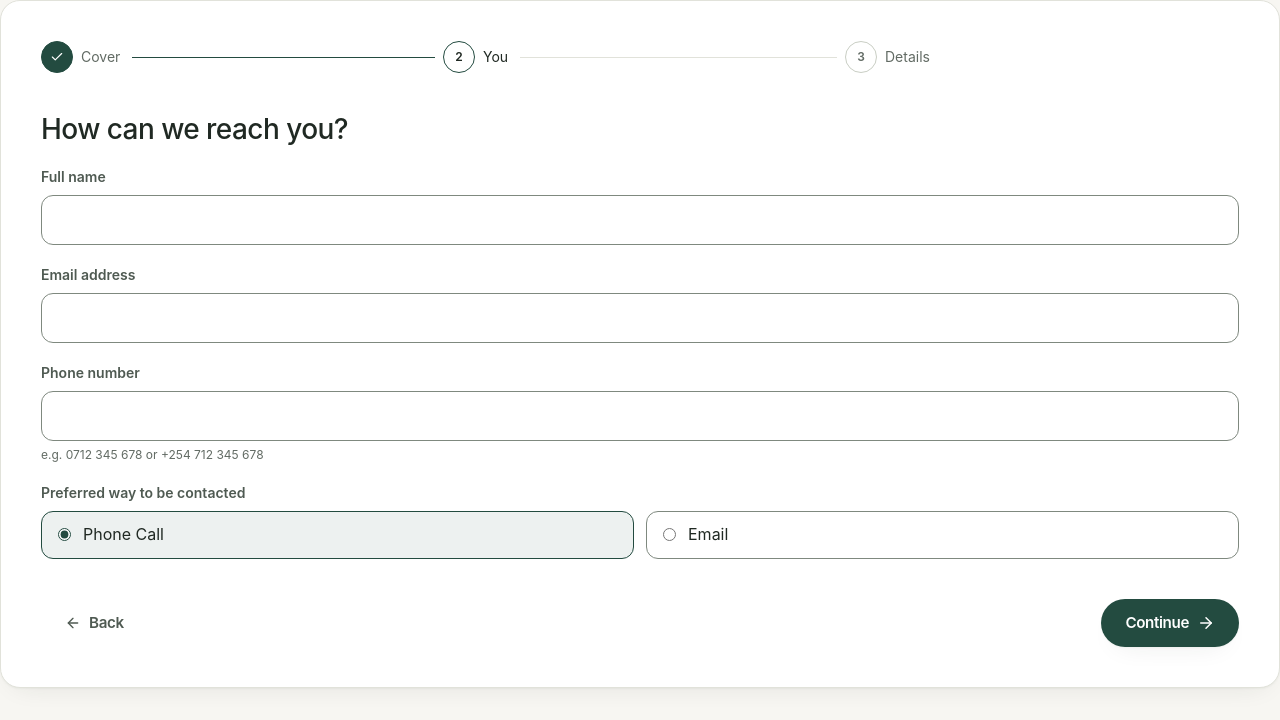
Test case: QuoteForm journey › shows inline errors for invalid contact details and a Kenyan phone hint
This screenshot has width=1280, height=720.
Step 1. Type "123" into the field labelled "Phone number" → (640, 416), box [41,391,1239,441]
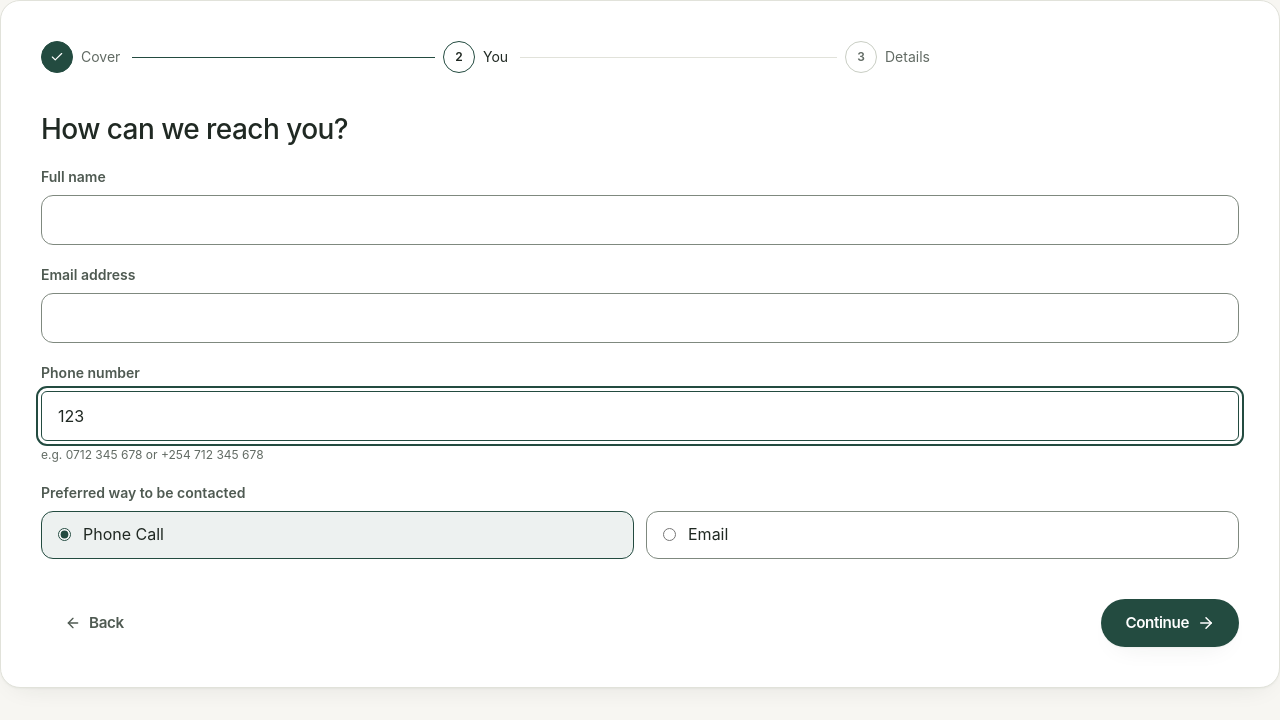
Step 2. Click the button "Continue" → (1170, 623), box [1101,599,1239,647]
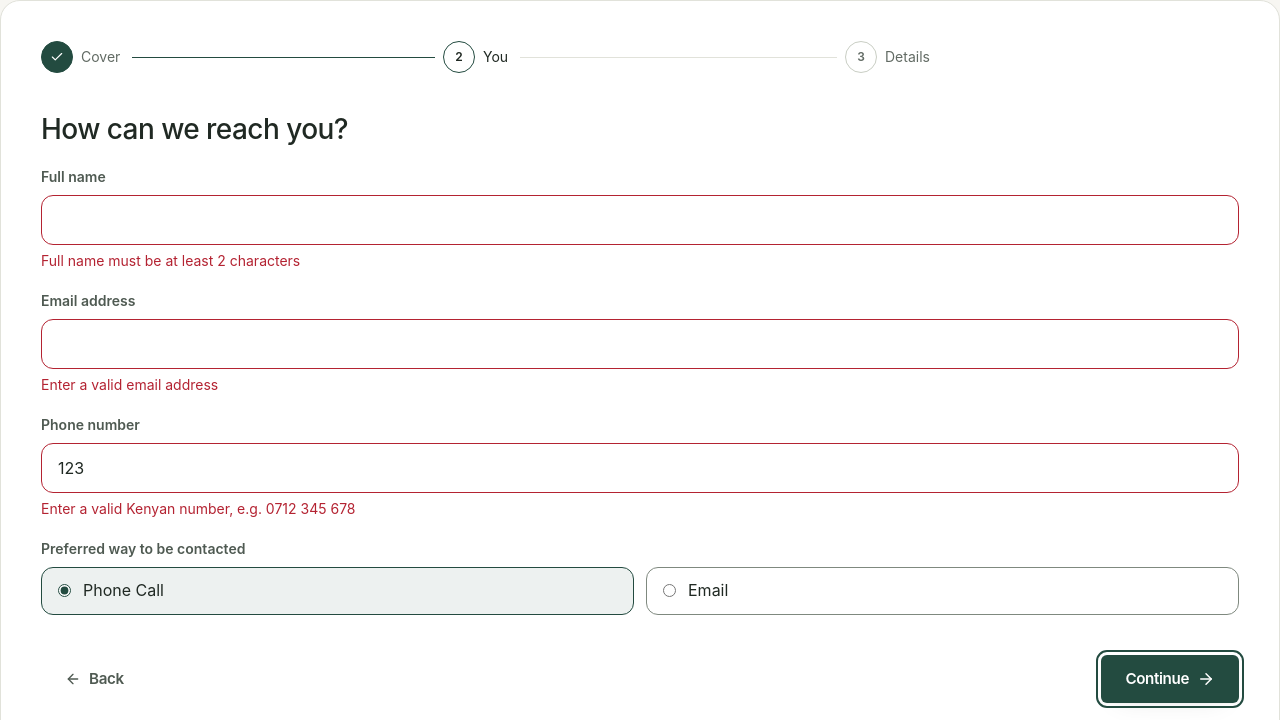
Check: the text "Enter a valid Kenyan number, e.g. 0712 345 678" is shown, box [41,500,356,517]
